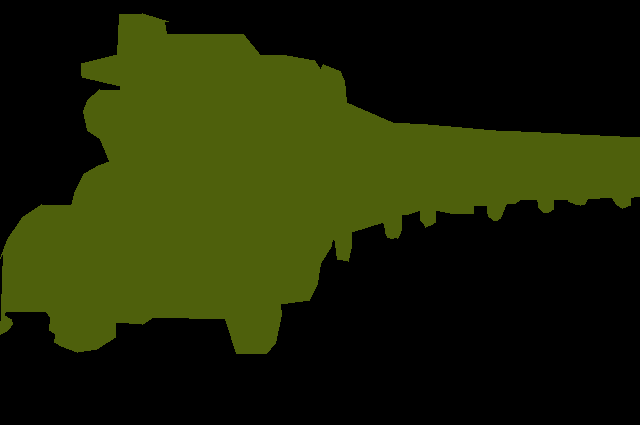Train: (0, 13, 640, 354)
